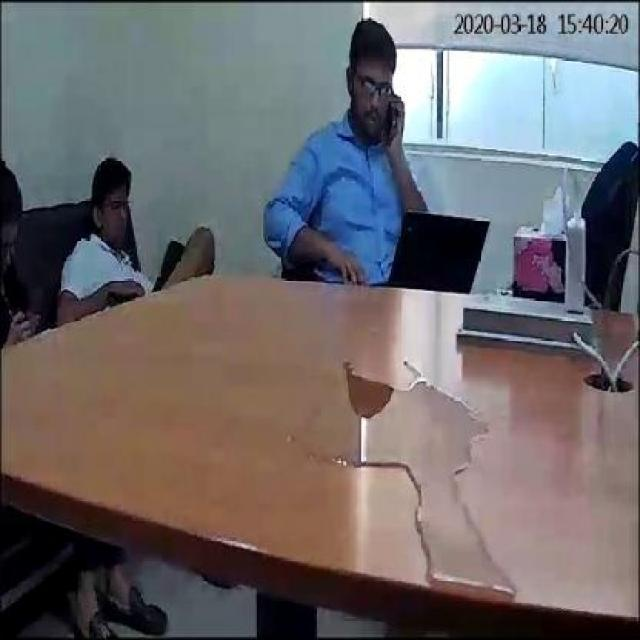spill: (282, 348, 506, 590)
